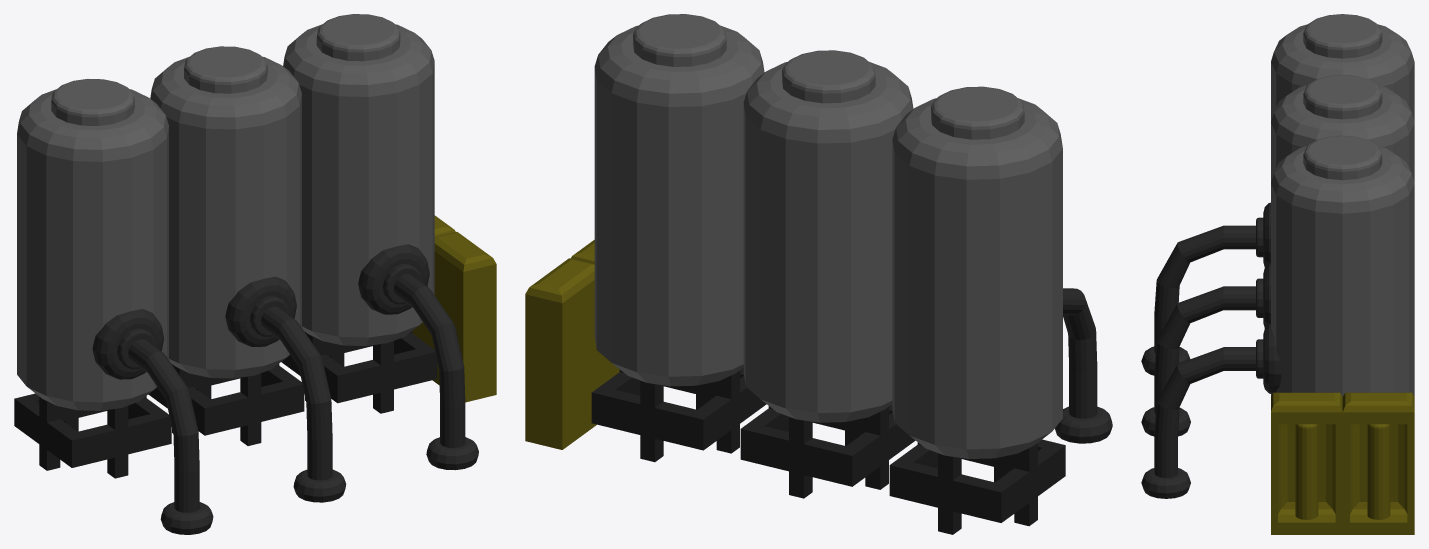
Rendered from Large_DistilleryA.fbx.
3 views of the same model, side by side, from view 1: azimuth 30°, elevation 25°; view 2: azimuth 150°, elevation 25°; view 3: azimuth 270°, elevation 25° (orthographic). The views are drawn at different scales.
Visible parts, largest first — view 1: Cylinder.005; view 2: Cylinder.005; view 3: Cylinder.005.
Boxes of the visible parts, x1,y1,x2,y2 form: Cylinder.005: (14,14,496,534); Cylinder.005: (525,14,1112,534); Cylinder.005: (1141,14,1414,534).
Bounding box in the file's own units: 1300 × 1040 × 760.
